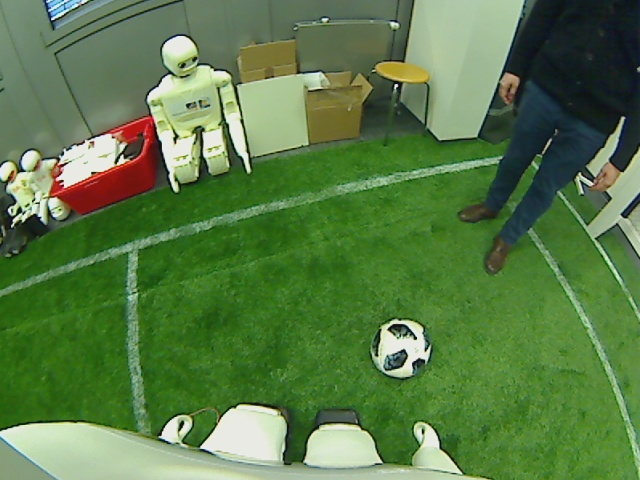ball: (369, 315, 432, 380)
